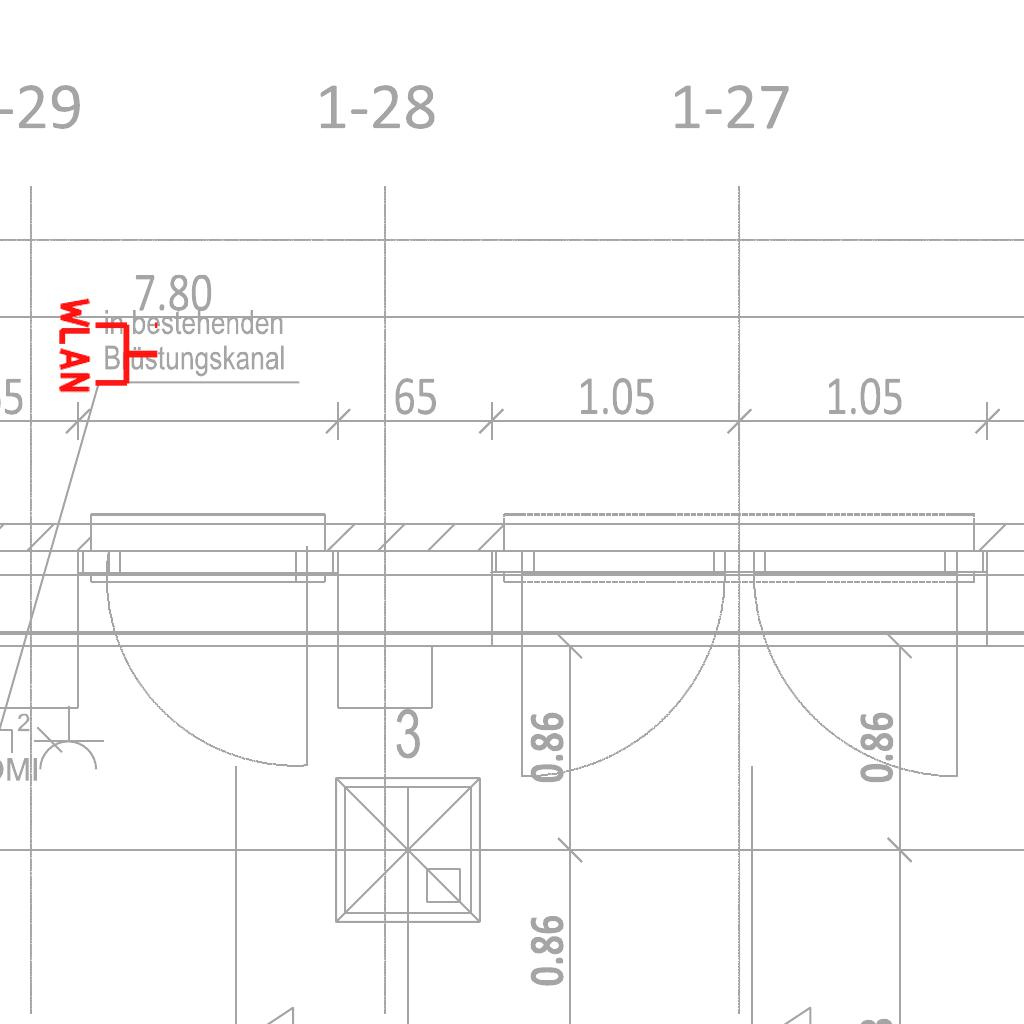WLAN: (57, 293, 162, 397)
